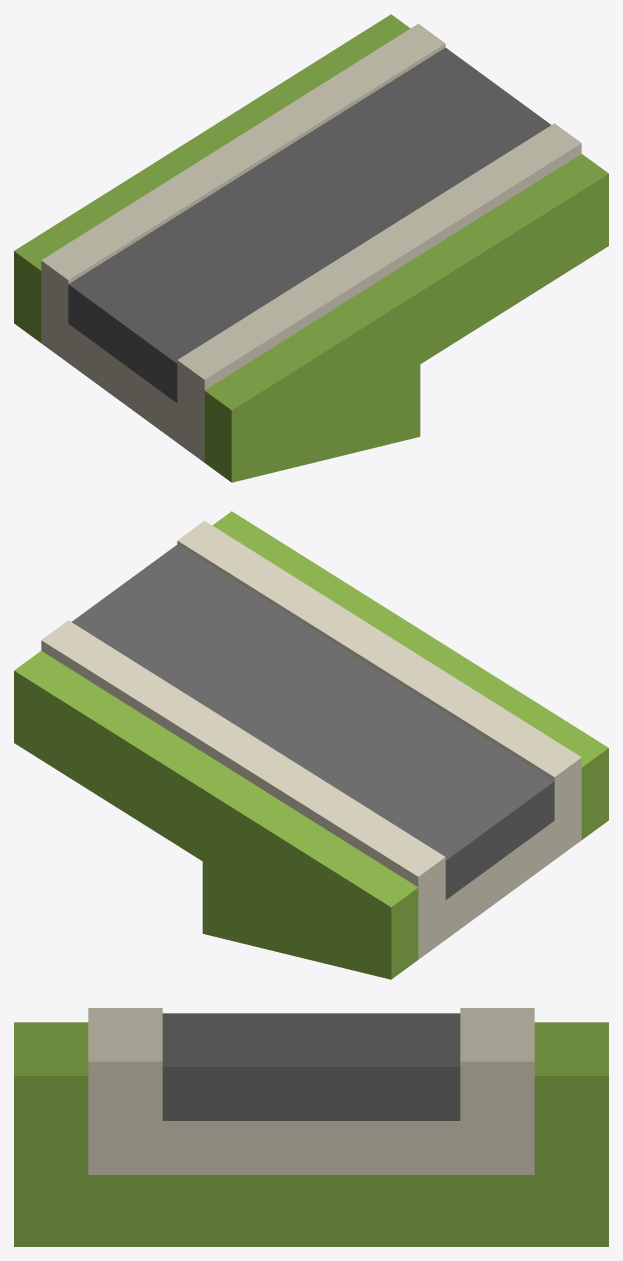
File: tile055.fbx
3 views of the same model, one above another, from view 1: azimuth 30°, elevation 25°; view 2: azimuth 150°, elevation 25°; view 3: azimuth 270°, elevation 25° (orthographic). The views are drawn at different scales.
Parts seen in each view (by area): view 1: tile055; view 2: tile055; view 3: tile055.
Part boxes in pixels (left/top/right/bottom): tile055: left=14, top=14, right=608, bottom=482; tile055: left=14, top=511, right=608, bottom=979; tile055: left=14, top=1008, right=608, bottom=1246.
Bounding box in the file's own units: 10 × 5.77 × 10.
